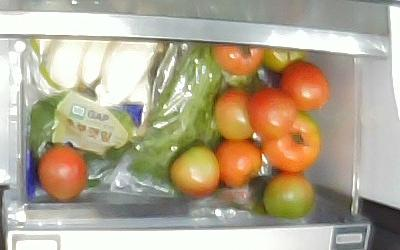tomato: (262, 112, 321, 172), (278, 61, 329, 111), (37, 148, 86, 200), (168, 146, 218, 196), (247, 88, 295, 138), (262, 173, 314, 219), (216, 141, 263, 188), (213, 90, 253, 141), (211, 43, 263, 74), (261, 47, 305, 72)
